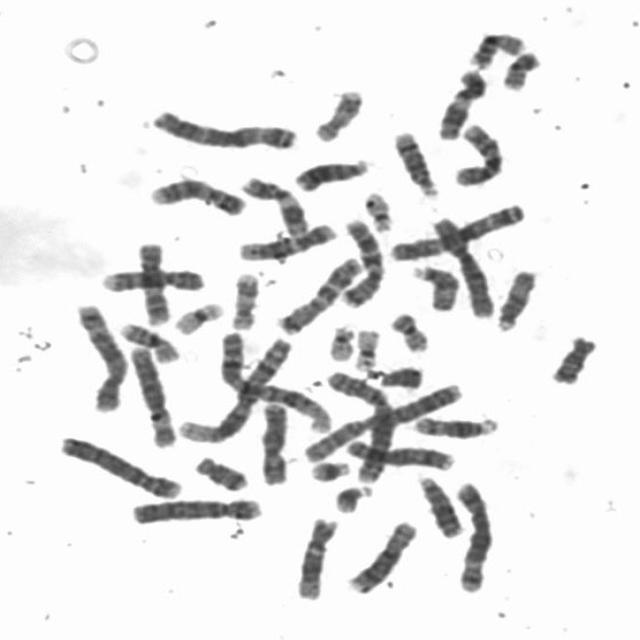A1: (173, 334, 294, 444), (216, 329, 334, 435)
A2: (298, 380, 464, 467), (326, 368, 399, 484)
A3: (386, 200, 526, 263), (145, 107, 299, 152)
B4: (54, 432, 183, 501), (126, 494, 264, 526)
B5: (70, 300, 129, 414), (449, 478, 494, 592)
C10: (450, 119, 504, 188), (134, 238, 172, 327)
C11: (237, 173, 310, 239), (432, 66, 489, 142)
C12: (234, 219, 338, 262), (291, 515, 340, 601)
C6: (429, 214, 496, 318), (127, 342, 177, 448)
C7: (273, 253, 365, 337), (337, 216, 386, 309)
C8: (343, 518, 419, 595), (340, 436, 454, 471)
C9: (146, 175, 246, 217), (97, 265, 207, 293)
D13: (413, 473, 464, 539), (289, 156, 373, 192)
D14: (388, 127, 440, 200), (410, 412, 500, 440)
D15: (492, 267, 538, 333), (408, 262, 461, 313)
E16: (116, 320, 180, 364), (466, 32, 527, 71)
E17: (310, 86, 365, 144), (227, 270, 260, 331)
E18: (546, 334, 598, 386), (190, 452, 249, 493)
F19: (169, 298, 226, 338), (349, 326, 382, 372)
F20: (498, 47, 544, 92), (387, 310, 430, 355)
G21: (329, 482, 374, 514), (309, 458, 351, 484)
G22: (363, 190, 398, 235), (327, 322, 359, 362)
X: (256, 400, 290, 487)
Y: (375, 363, 424, 389)
